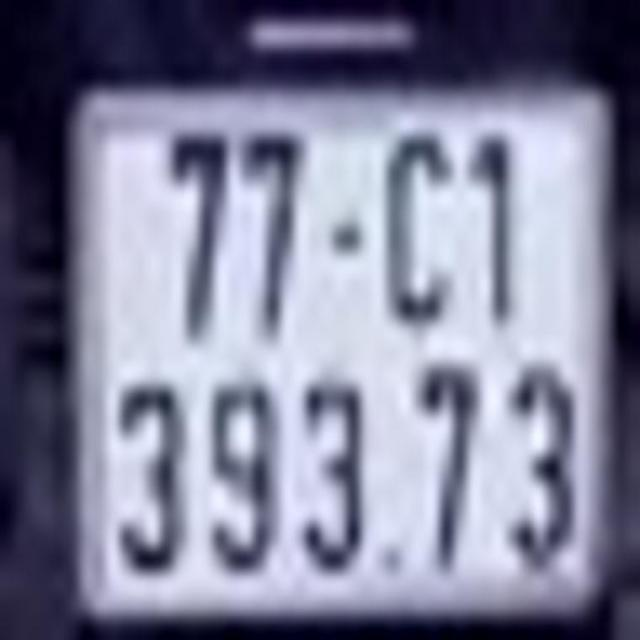1: (462, 132, 517, 318)
3: (508, 364, 575, 567), (117, 386, 183, 576), (303, 380, 364, 572)
7: (240, 132, 302, 342), (167, 131, 225, 336), (422, 365, 477, 570)
9: (209, 381, 273, 570)
C: (381, 136, 455, 322)
